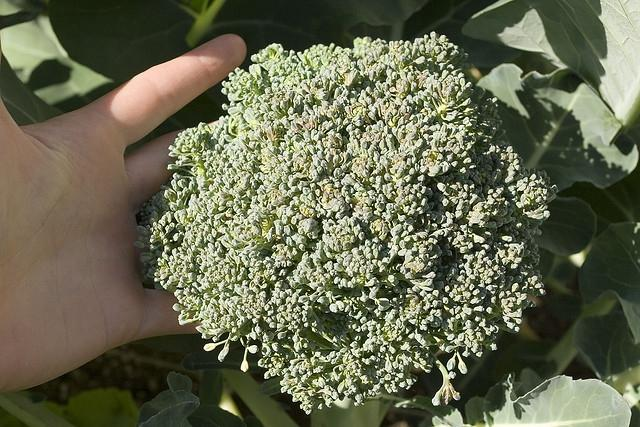broccoli: (145, 32, 560, 421)
